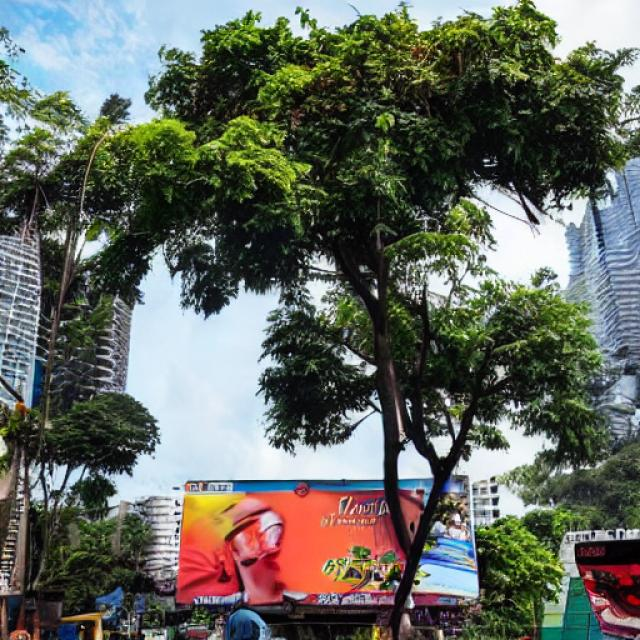Billboard: (176, 472, 481, 612)
